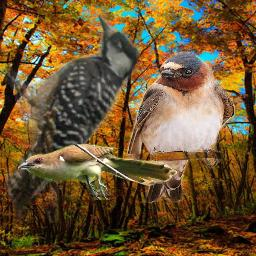Cuckoo: (18, 144, 178, 200)
Swallow: (127, 51, 235, 203)
Woodpecker: (5, 6, 140, 223)
